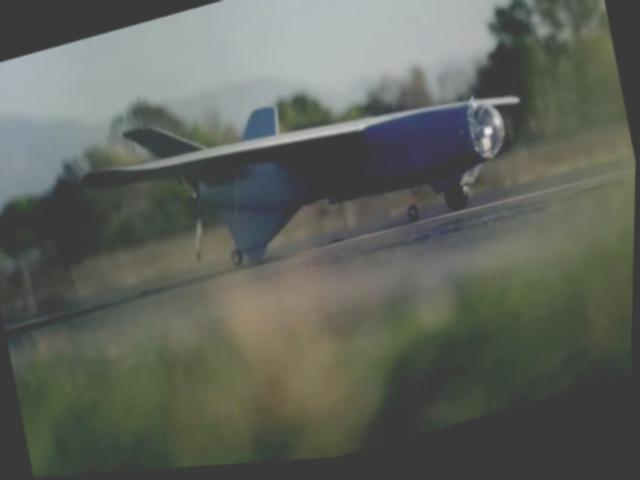iha: (64, 20, 544, 309)
